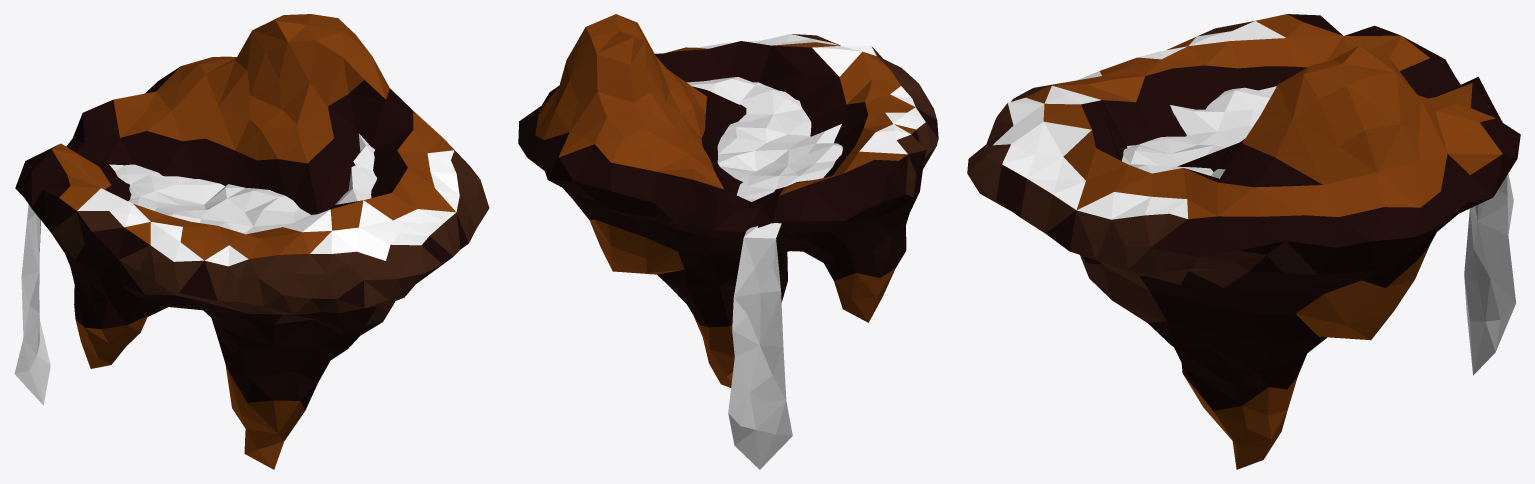
Rendered from floating_island_tv.fbx.
The picture shows the model from 3 angles, left to right: view 1: azimuth 30°, elevation 25°; view 2: azimuth 150°, elevation 25°; view 3: azimuth 270°, elevation 25°; orthographic projection. The views are drawn at different scales.
Visible parts, largest first — view 1: land, water; view 2: land, water; view 3: land, water.
Part boxes in pixels (bbox=[...]): land: bbox=[15, 14, 489, 469]; water: bbox=[14, 133, 377, 405]; land: bbox=[518, 14, 938, 387]; water: bbox=[686, 77, 842, 469]; land: bbox=[967, 14, 1520, 469]; water: bbox=[1122, 84, 1515, 375].
Size of the model in its own units: 2399 by 2397 by 2642.
